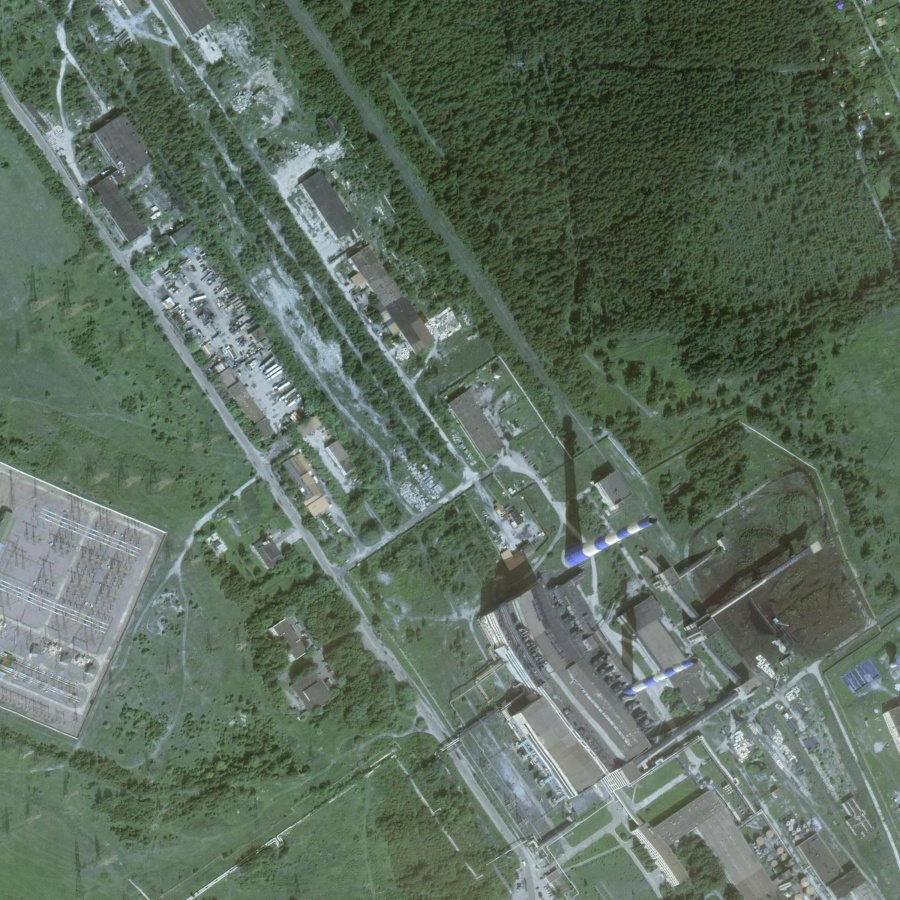PowerPlant: (531, 442, 837, 825)
